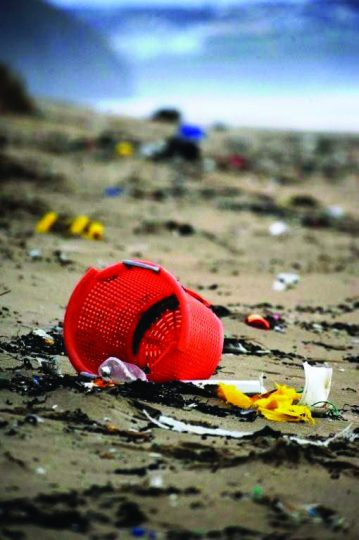litter: (55, 238, 227, 387), (235, 350, 353, 432)
